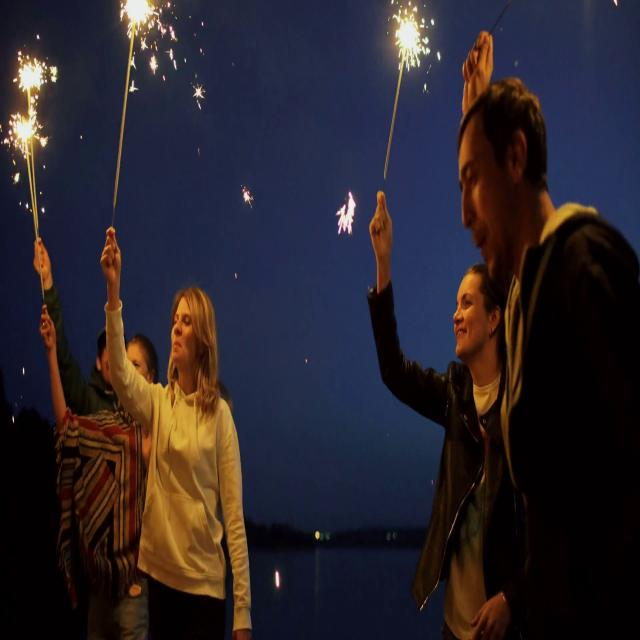body: (453, 25, 640, 640), (365, 186, 524, 640), (98, 222, 257, 640), (39, 303, 162, 637), (0, 364, 85, 640), (32, 236, 127, 416)
